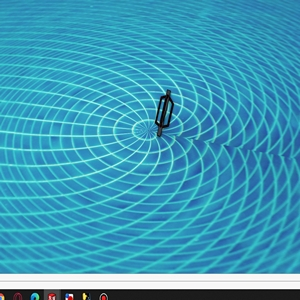submarine: (155, 88, 172, 135)
